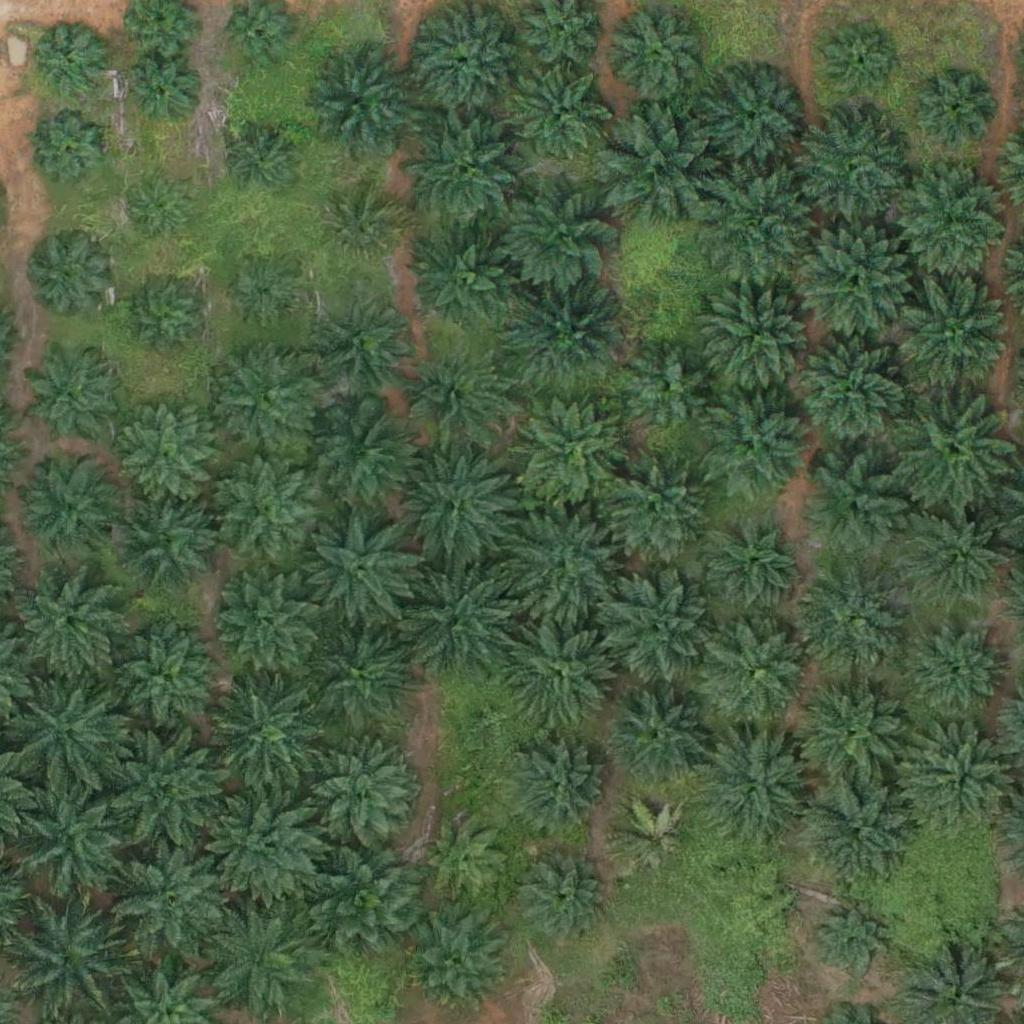Kelapa_Sawit: (295, 42, 420, 168), (297, 508, 422, 634), (402, 103, 527, 229), (497, 173, 622, 299), (594, 106, 719, 232), (697, 165, 822, 291), (791, 330, 916, 456), (892, 272, 1017, 398), (891, 387, 1016, 513), (295, 730, 420, 856), (300, 832, 425, 958), (199, 670, 324, 796), (196, 779, 321, 905), (193, 896, 318, 1022), (97, 613, 222, 739), (102, 723, 227, 849), (102, 833, 227, 959), (9, 563, 134, 689), (6, 671, 131, 797), (4, 772, 129, 898), (4, 896, 129, 1022), (703, 283, 816, 397), (795, 568, 908, 682), (305, 399, 418, 512), (401, 453, 514, 566), (701, 388, 814, 501), (694, 506, 807, 619), (795, 454, 908, 567), (895, 165, 1008, 278), (905, 728, 1018, 841), (795, 677, 908, 790), (799, 778, 912, 891), (503, 613, 616, 726), (499, 726, 612, 839), (397, 565, 510, 678), (798, 221, 910, 335), (903, 500, 1015, 614), (211, 339, 323, 452), (213, 454, 325, 567), (411, 225, 523, 338), (398, 341, 510, 454), (510, 278, 622, 391), (515, 397, 627, 510), (508, 507, 620, 620), (596, 452, 708, 565), (793, 106, 905, 219), (700, 617, 812, 730), (699, 731, 811, 844), (600, 568, 712, 681), (302, 618, 414, 731), (211, 570, 323, 683), (412, 6, 512, 107), (510, 846, 610, 947), (415, 806, 515, 907), (23, 345, 123, 445), (25, 460, 125, 560), (116, 406, 216, 506), (115, 494, 215, 594), (511, 63, 611, 163), (701, 69, 801, 169), (903, 624, 1003, 724), (406, 905, 506, 1005), (608, 795, 696, 884), (28, 231, 116, 319), (123, 274, 211, 362), (625, 344, 713, 432), (615, 696, 703, 784), (320, 297, 407, 385), (611, 10, 698, 98), (822, 27, 897, 103), (326, 190, 401, 265), (919, 71, 994, 146), (34, 23, 109, 98), (34, 115, 109, 190), (122, 59, 197, 134), (223, 126, 298, 201), (229, 256, 304, 331), (815, 904, 890, 979), (128, 178, 190, 241)
